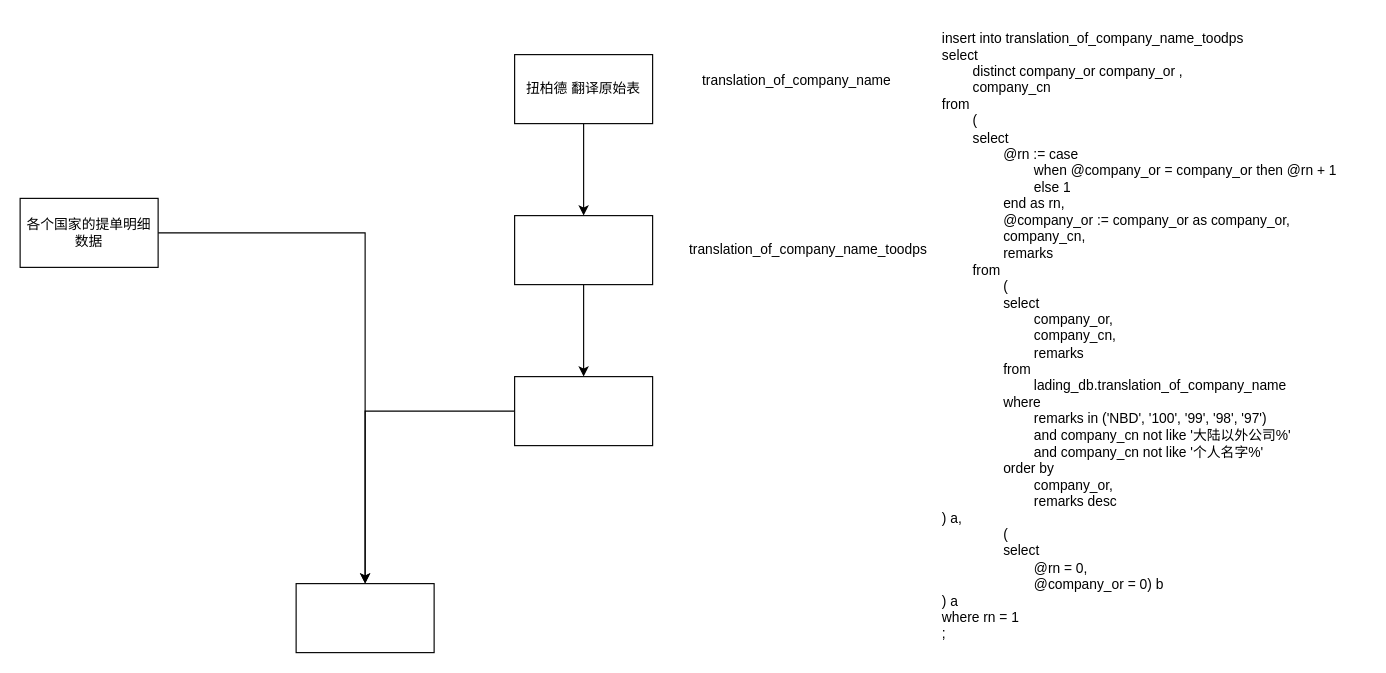
Image size: 1386x673. Some labels were removed from this diagram. The centre of each missing label's shape, as x and y in pixels:
"ODPS" goes at [364,617].
"数据条件筛选，数据第一次处理" goes at [583,249].
